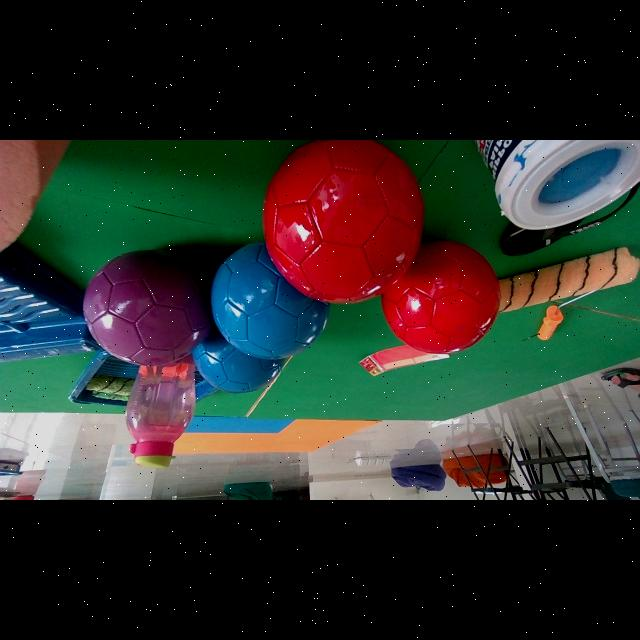B: (211, 243, 329, 359), (192, 330, 284, 394)
P: (84, 251, 212, 365)
R: (262, 141, 424, 304), (382, 241, 499, 352)
